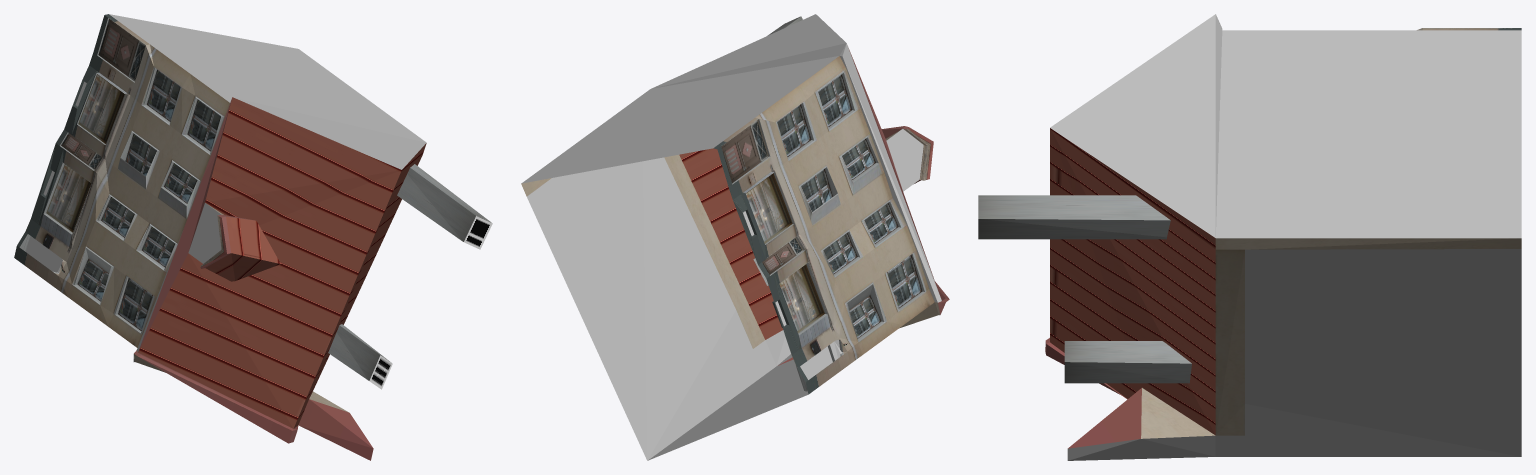
The model's file is L26-origo.obj.
3 renders of one model, left to right at view 1: azimuth 30°, elevation 25°; view 2: azimuth 150°, elevation 25°; view 3: azimuth 270°, elevation 25°, orthographic. The views are drawn at different scales.
Visible parts, largest first — view 1: L26; view 2: L26; view 3: L26.
Boxes of the visible parts, bbox=[...] form: L26: bbox=[14, 14, 492, 460]; L26: bbox=[521, 14, 949, 460]; L26: bbox=[978, 14, 1521, 460].
Size of the model in its own units: 13.19 by 14.5 by 17.73.
